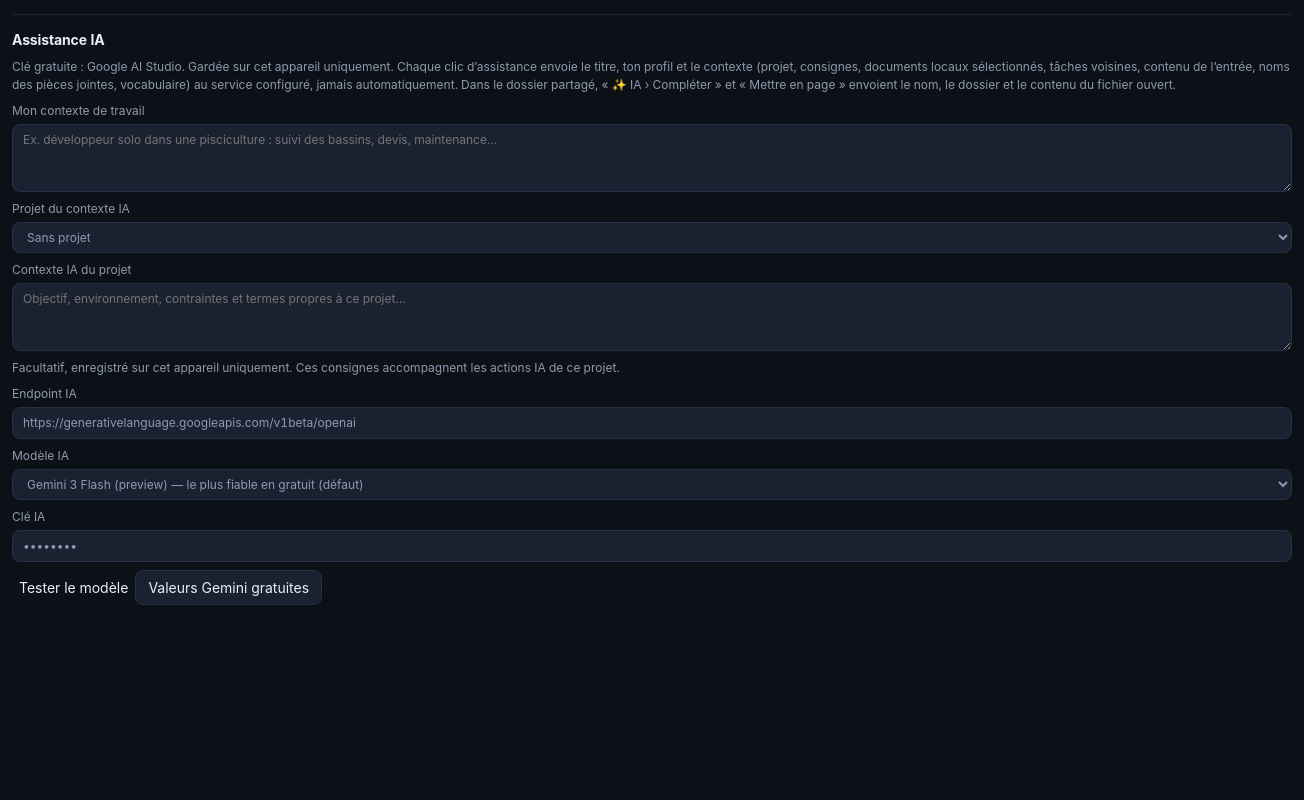
Scenario: réglages IA › « Tester le modèle » fait un vrai appel et affiche la réussite
This screenshot has width=1304, height=800.
Click the button "Tester le modèle". click: (74,588)
box: top-left (12, 575), bottom-right (135, 600)
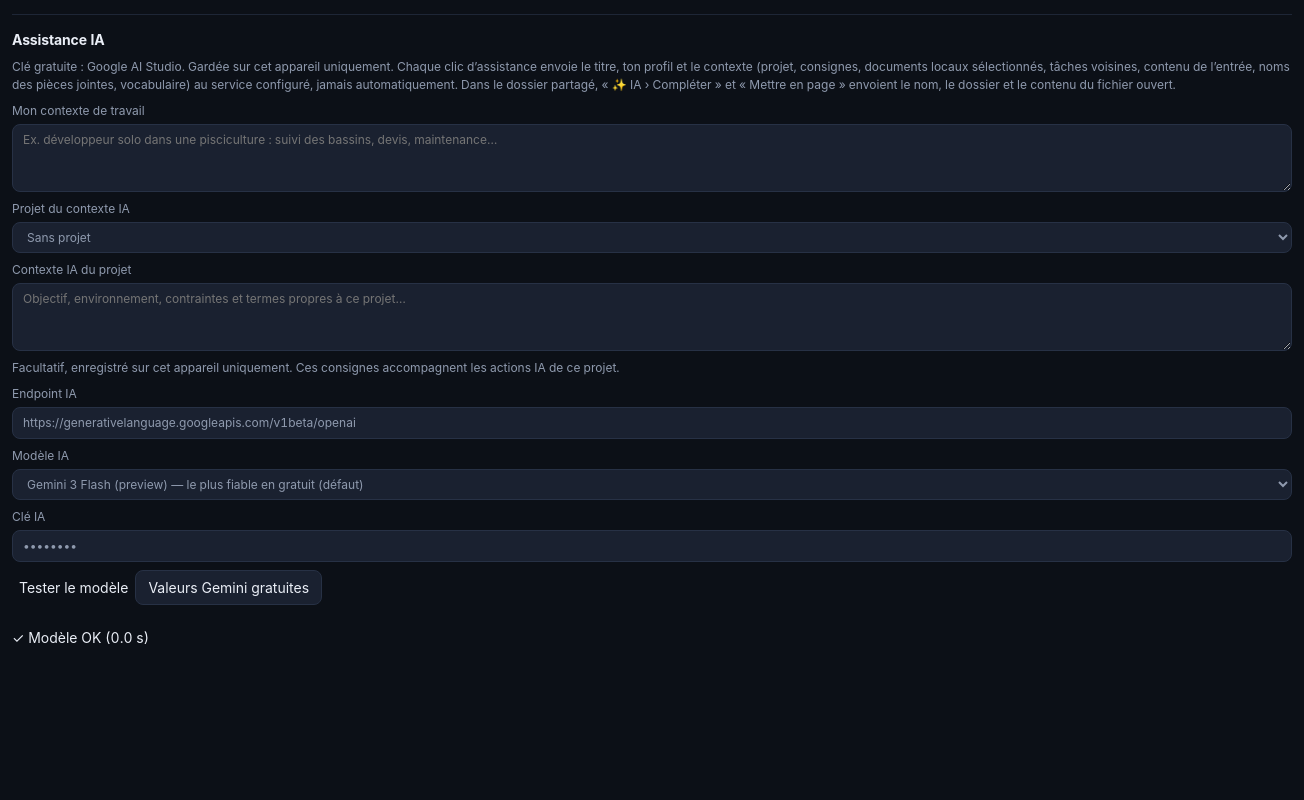
expect the message shows "Modèle OK": met, box top-left (12, 629), bottom-right (111, 646)
